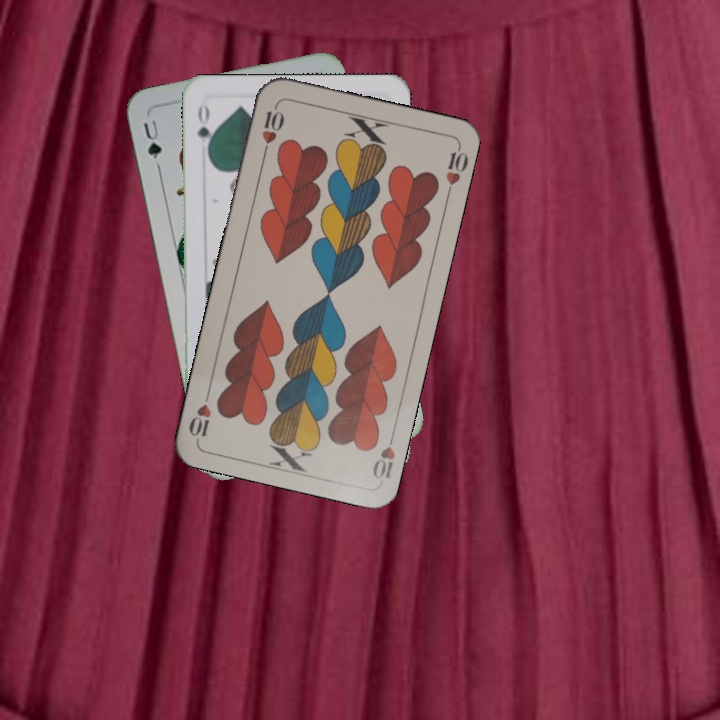GO: (193, 100, 216, 159)
GU: (139, 116, 165, 162)
H10: (258, 100, 287, 159), (368, 426, 398, 482)
